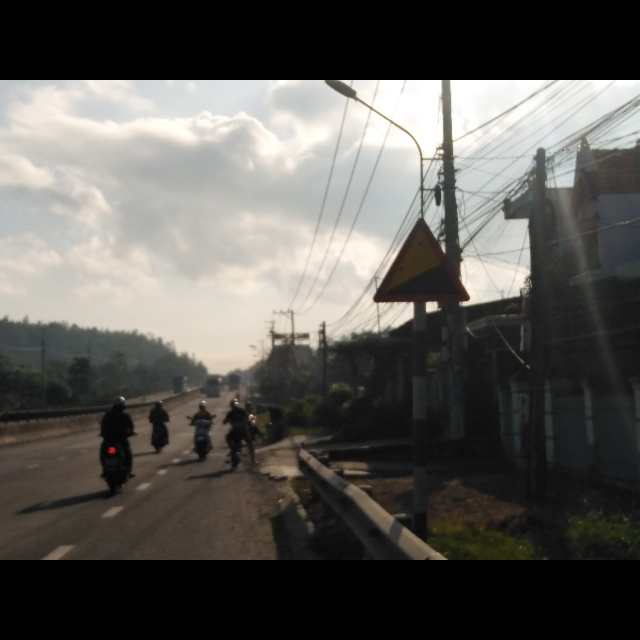Dốc lên nguy hiểm: (370, 215, 469, 306)
